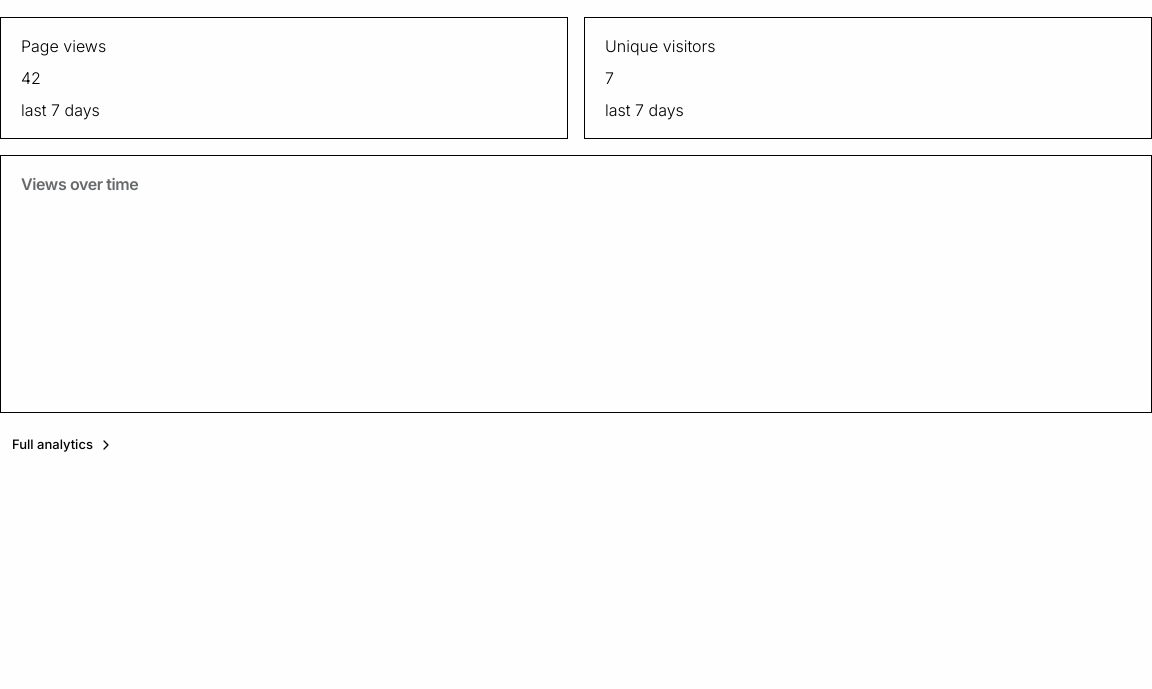
AnalyticsPanel › compact mode hides the breakdowns behind a Full analytics disclosure
Expected: the text "Page views" is shown, [21,34,106,58]
Expected: the heading "Views over time" is shown, [21,172,138,196]
Click the button "Full analytics": (62, 445) [0,429,125,460]
(page scrolled)
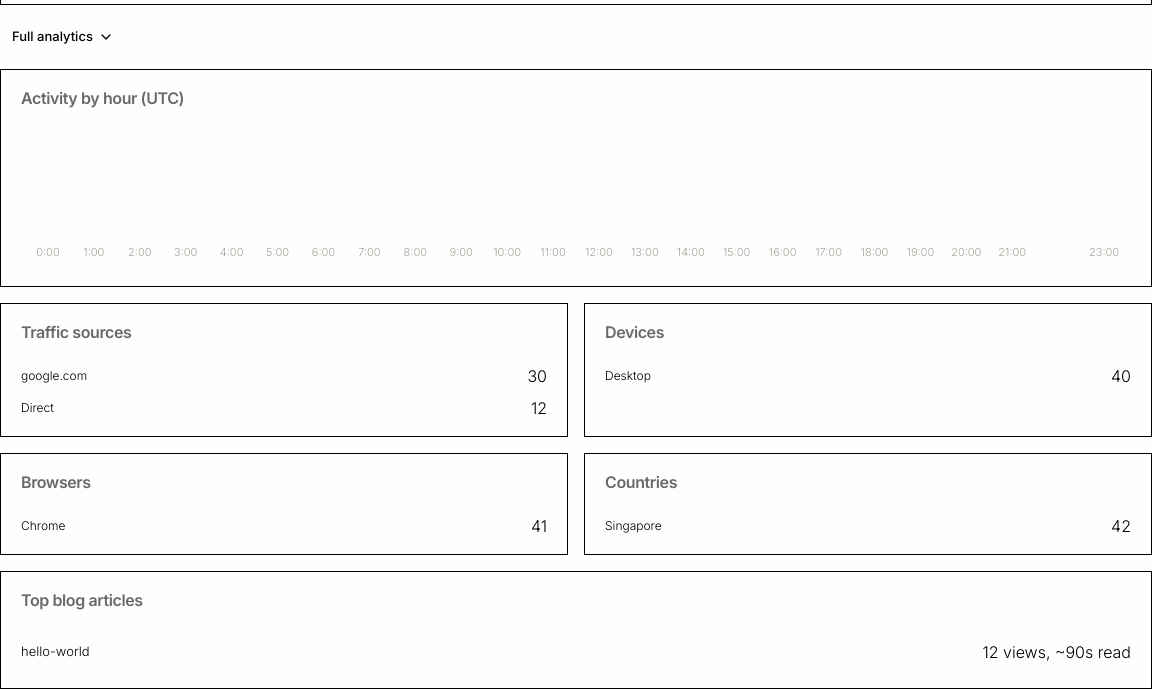
Expected: the heading "Traffic sources" is shown, [21,320,131,344]
Expected: the heading "Top blog articles" is shown, [21,588,143,612]
